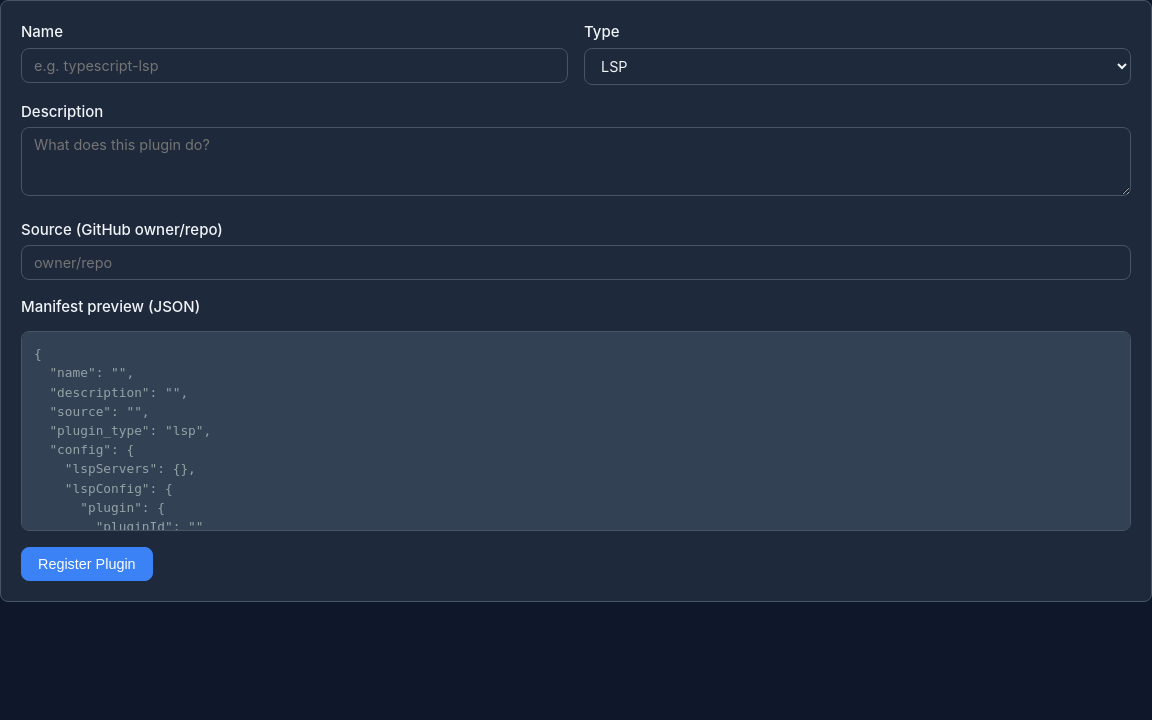
it: PluginForm › shows source format error for invalid owner/repo
The width and height of the screenshot is (1152, 720).
Type "my-plugin" into the field with placeholder "e.g. typescript-lsp".
click(294, 65); type("my-plugin")  # box [21,48,568,82]
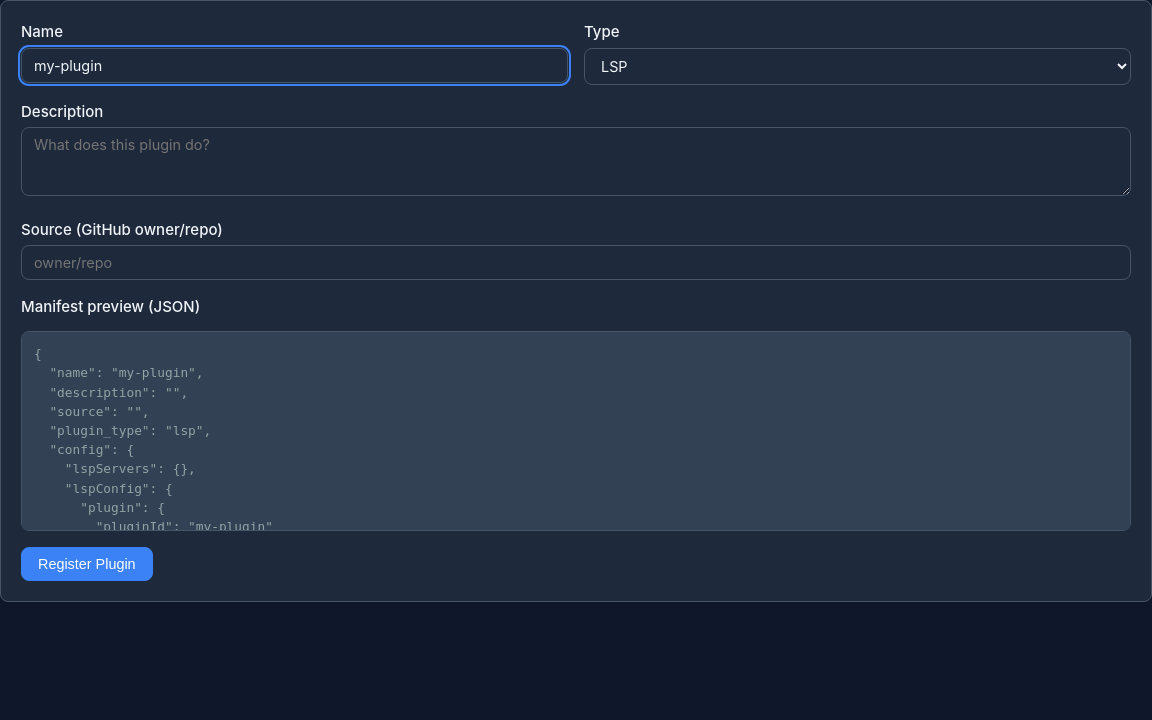
Type "A plugin description" into the text box with placeholder "What does this plugin do?".
click(576, 162); type("A plugin description")  # box [21,127,1131,196]
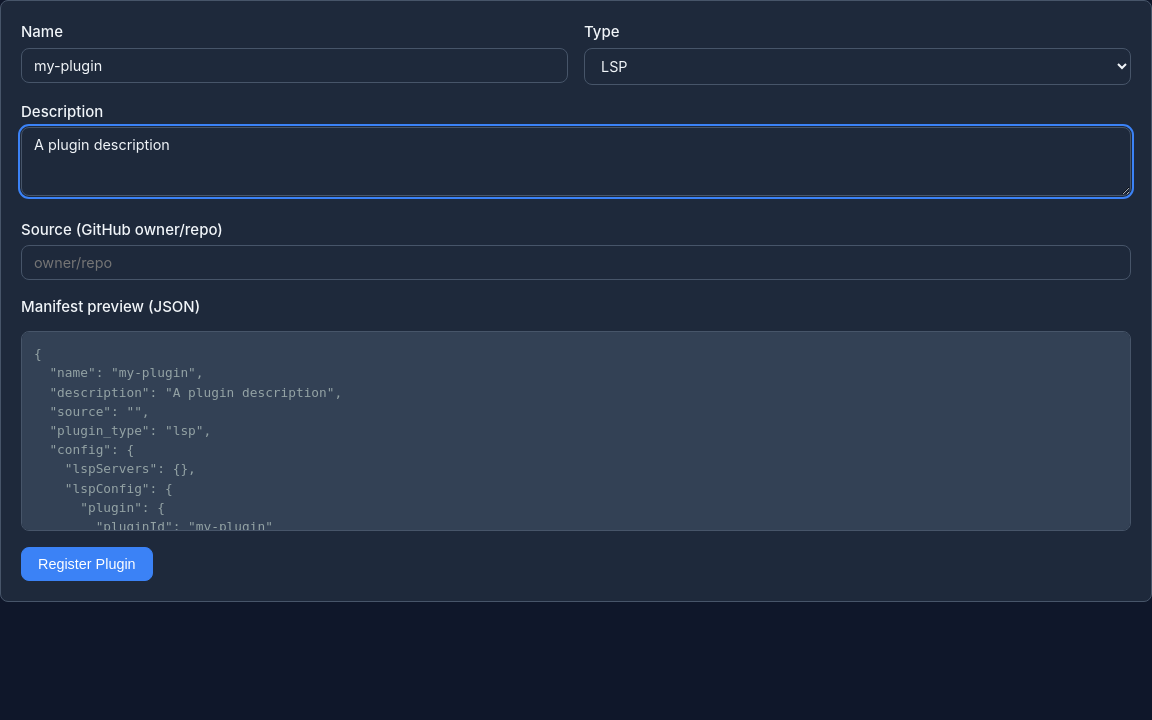
Type "invalid-no-slash" into the field with placeholder "owner/repo".
click(576, 262); type("invalid-no-slash")  # box [21,245,1131,280]
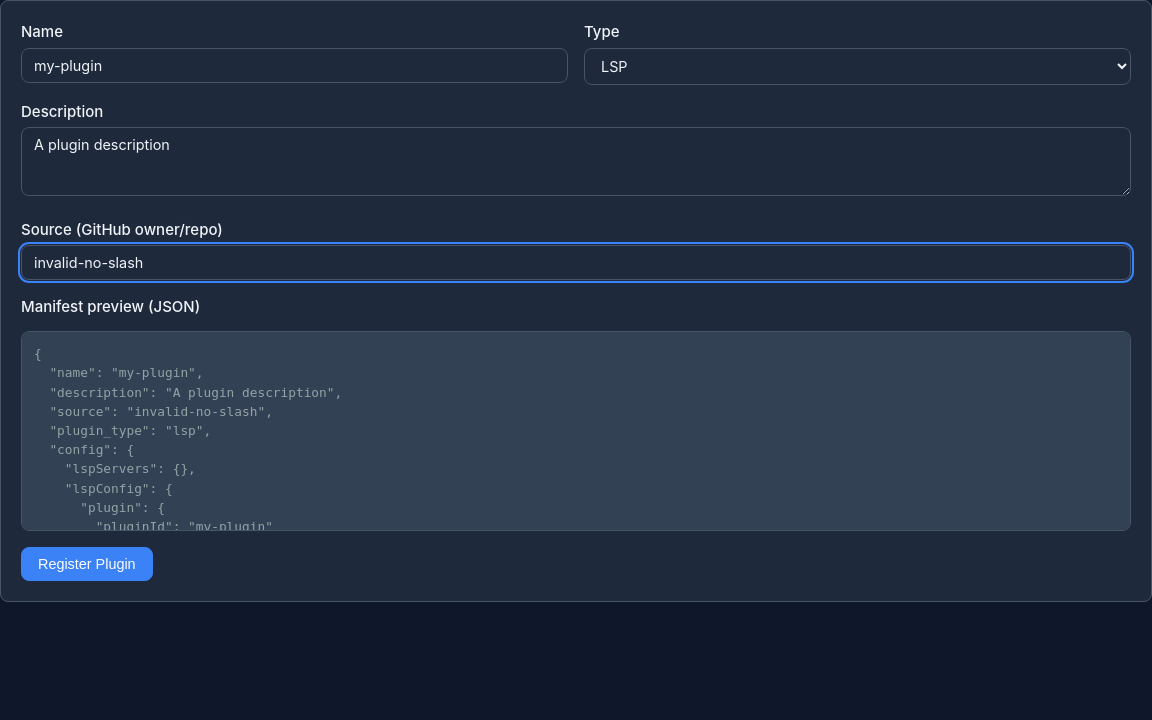
Click the button "Register Plugin".
click(87, 564)  # box [21,547,153,581]
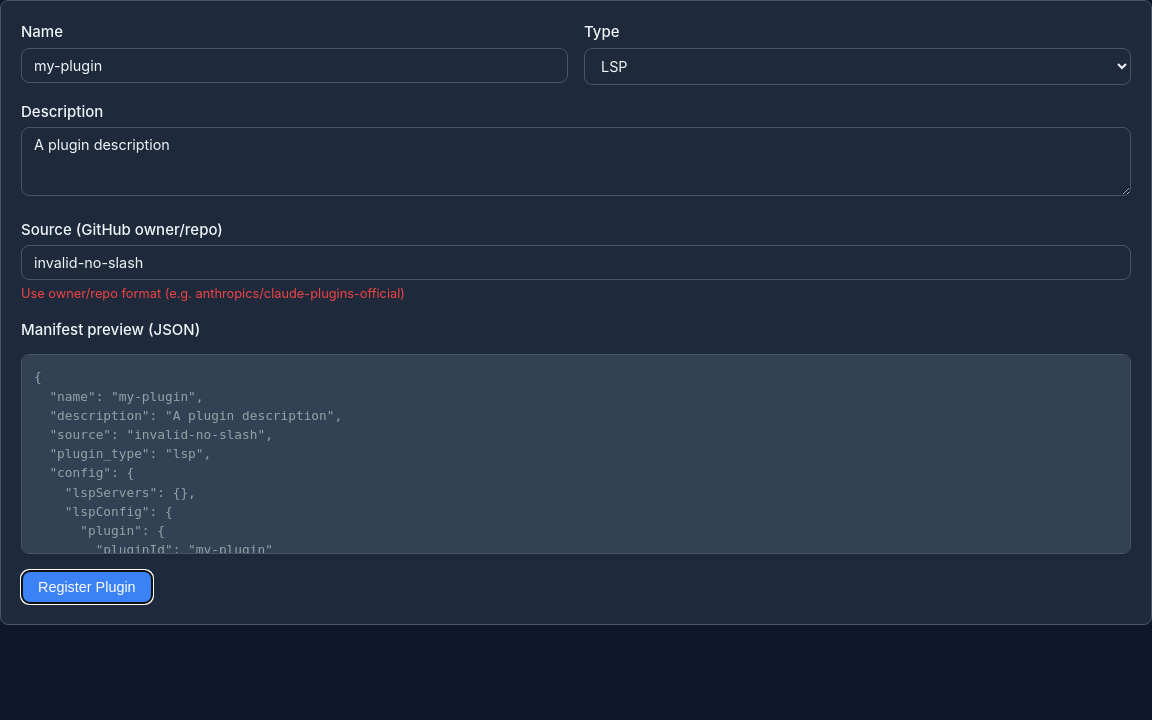
Expected: the text "Use owner/repo format" is shown, [21,286,405,301]
